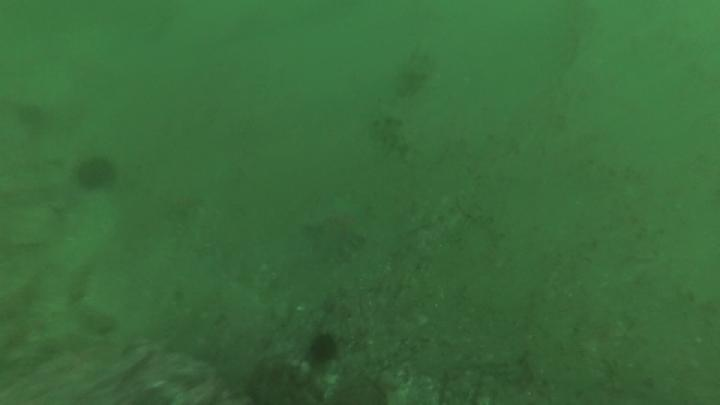echinus: (76, 162, 113, 190), (313, 336, 334, 363)
starfish: (313, 197, 366, 242)
